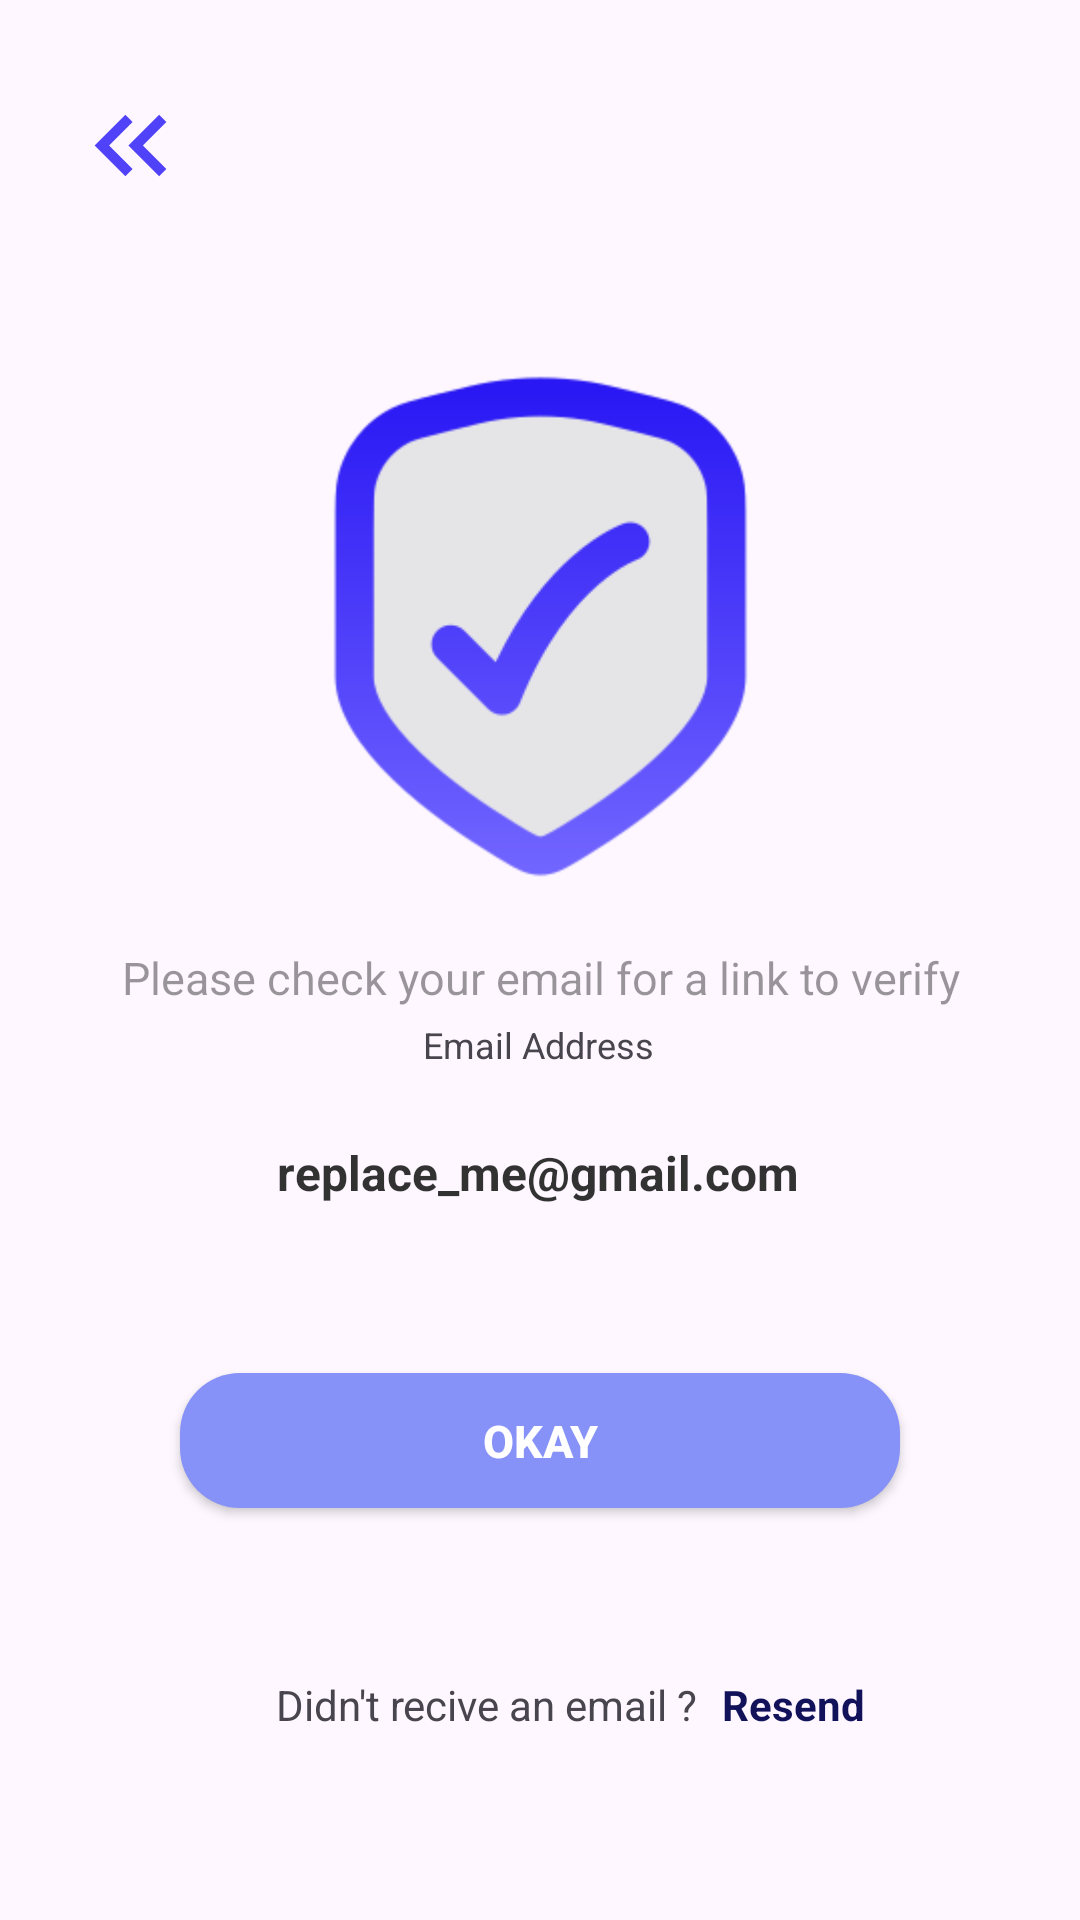

Where to tap for icons on this 1080px×1920px app screen, as (x=x, y=y):
return left: (x=130, y=145)
